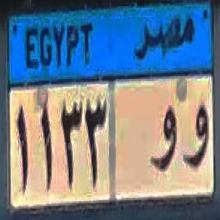1: (38, 92, 54, 188), (16, 99, 32, 195)
3: (59, 98, 84, 195), (84, 95, 107, 192)
waw: (148, 98, 179, 182), (182, 96, 210, 182)
